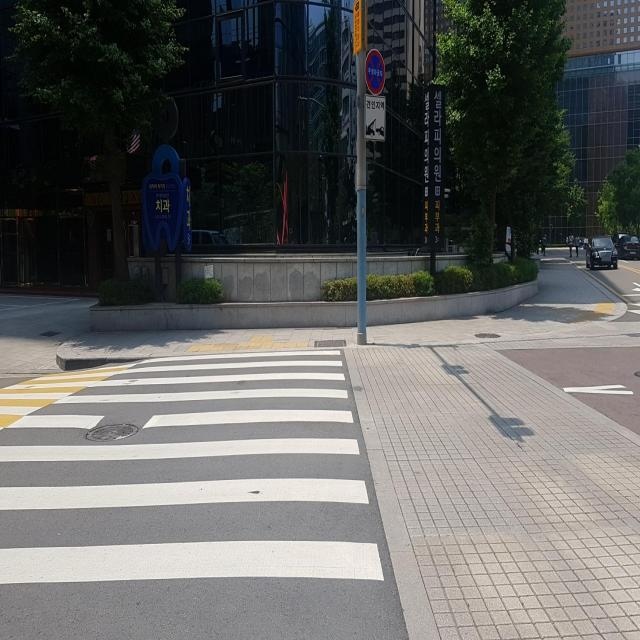횡단보도: (0, 346, 387, 586)
